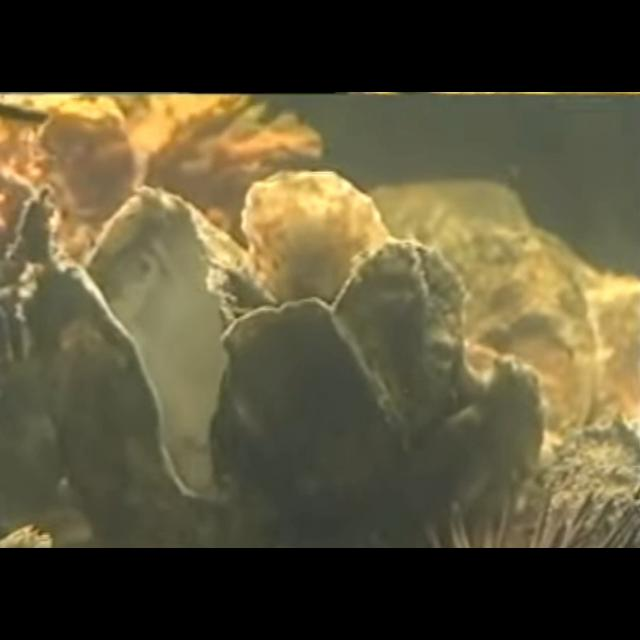Oyster-Closed: (209, 300, 411, 548), (331, 239, 469, 451), (408, 356, 546, 548), (240, 171, 388, 313), (514, 419, 640, 548)
Oyster-Open: (20, 187, 278, 548)
